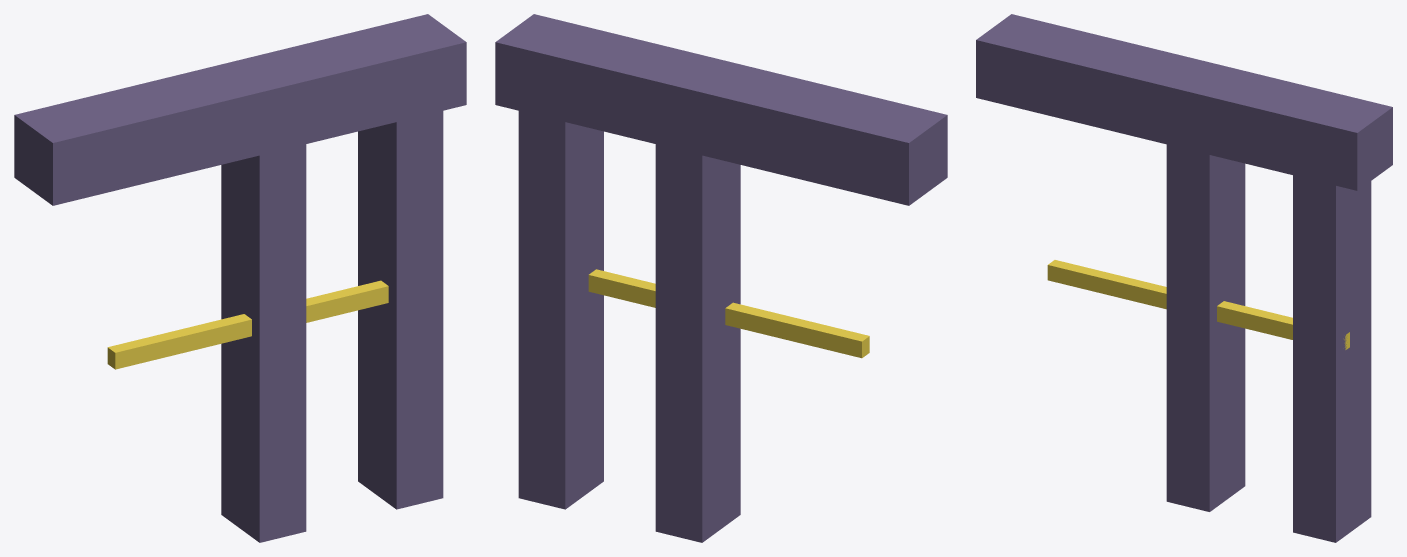
Rendered from wf_goal_gate.obj.
3 renders of one model, left to right at view 1: azimuth 30°, elevation 25°; view 2: azimuth 150°, elevation 25°; view 3: azimuth 330°, elevation 25°, orthographic. The views are drawn at different scales.
Visible parts, largest first — view 1: wf_pillar, wf_lintel, wf_threshold; view 2: wf_pillar, wf_lintel, wf_threshold; view 3: wf_pillar, wf_lintel, wf_threshold.
Boxes of the visible parts, x1,y1,x2,y2 form: wf_pillar: [221, 79, 443, 542]; wf_lintel: [14, 14, 466, 205]; wf_threshold: [107, 280, 388, 369]; wf_pillar: [518, 79, 740, 542]; wf_lintel: [495, 14, 947, 205]; wf_threshold: [588, 269, 869, 358]; wf_pillar: [1166, 115, 1371, 542]; wf_lintel: [976, 14, 1392, 190]; wf_threshold: [1047, 260, 1349, 349].
Bounding box in the file's own units: 6.2 × 6.45 × 1.
